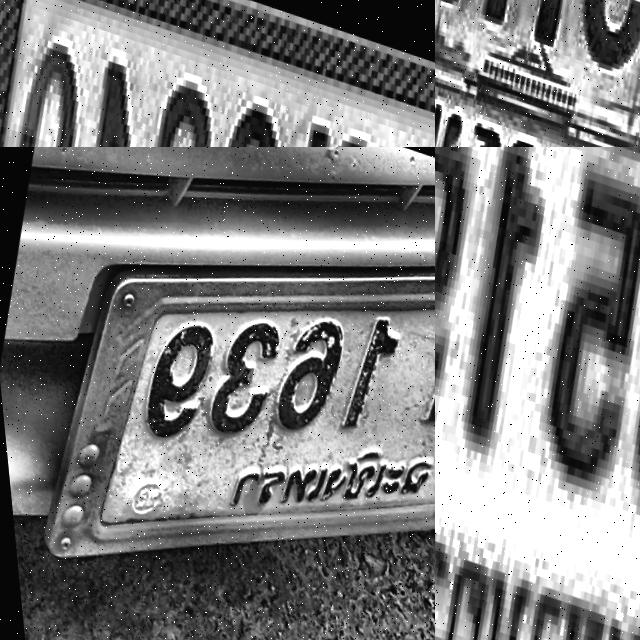license-plate: (0, 147, 435, 640), (435, 147, 640, 640), (0, 0, 435, 147), (435, 0, 640, 147)
